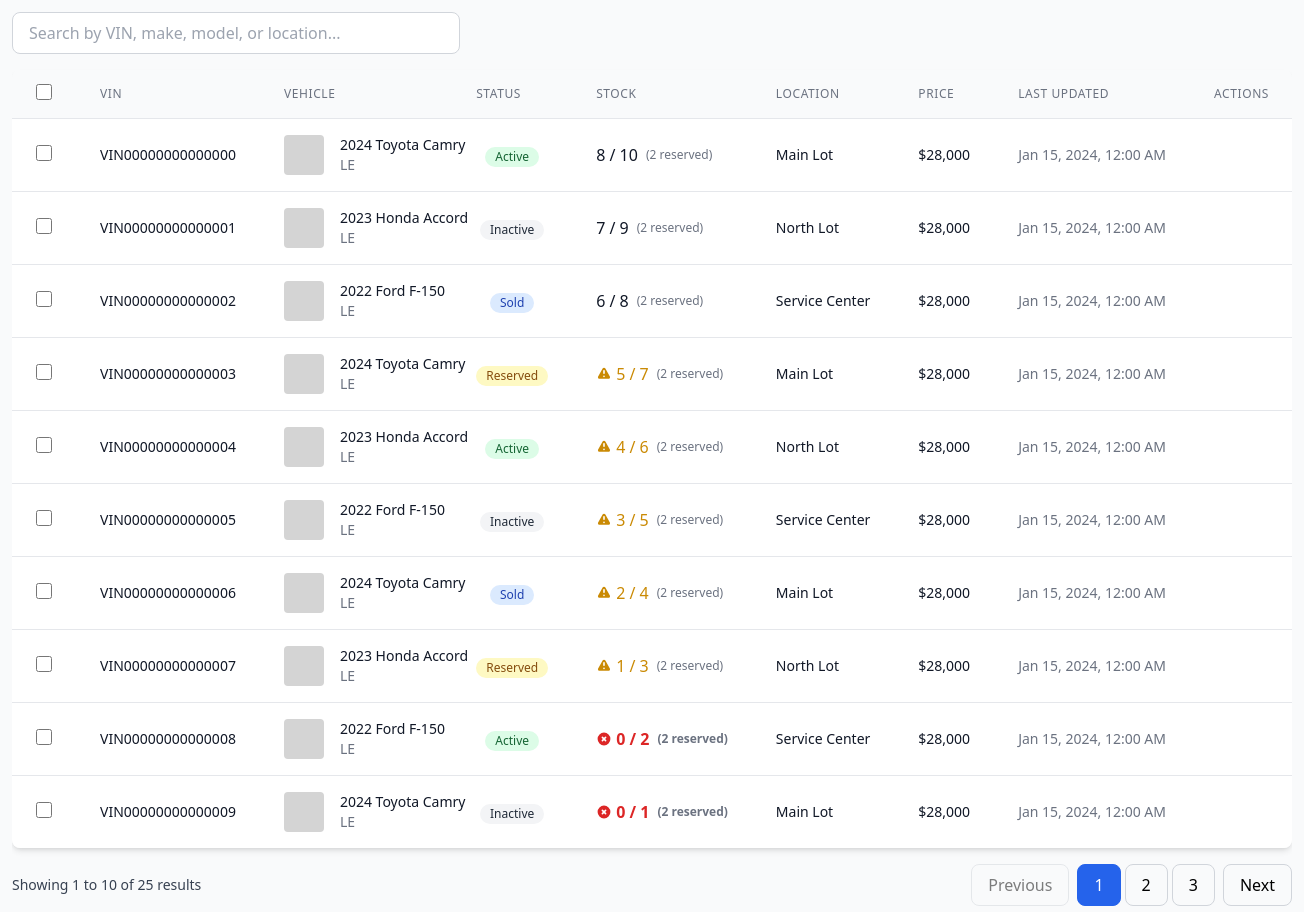
Test: InventoryTable Component › Pagination › should disable next button on last page
# Navigate to last page
Click the button named "Page 3": (1193, 885) [1172,864,1215,906]
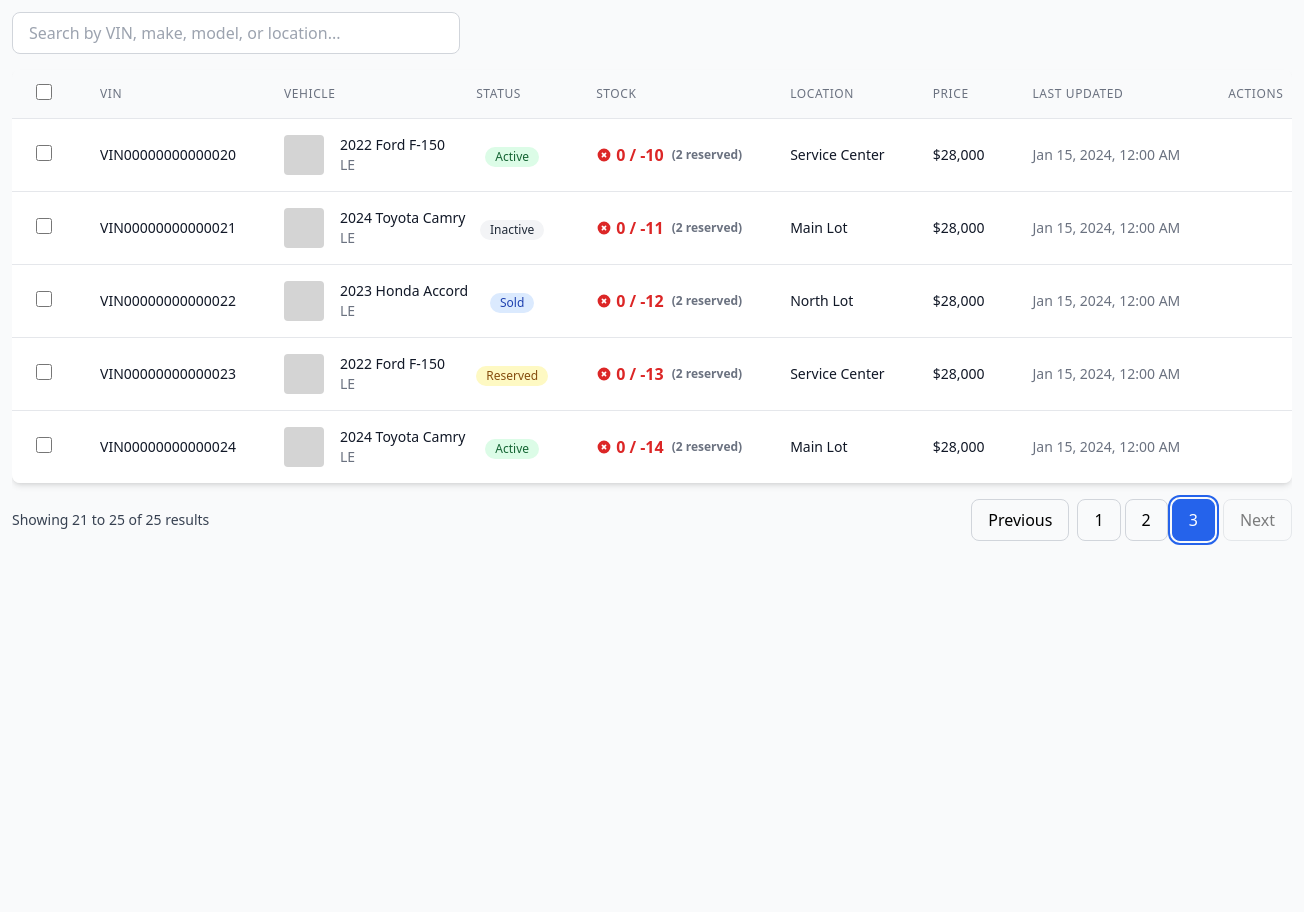
Expected: the button with aria-label "Next page" is disabled, [1223,499,1292,541]
